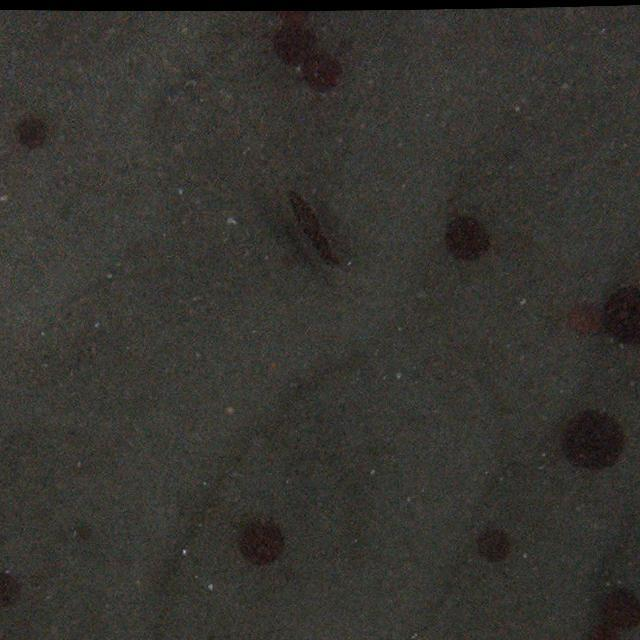roundfish: (284, 188, 348, 276)
